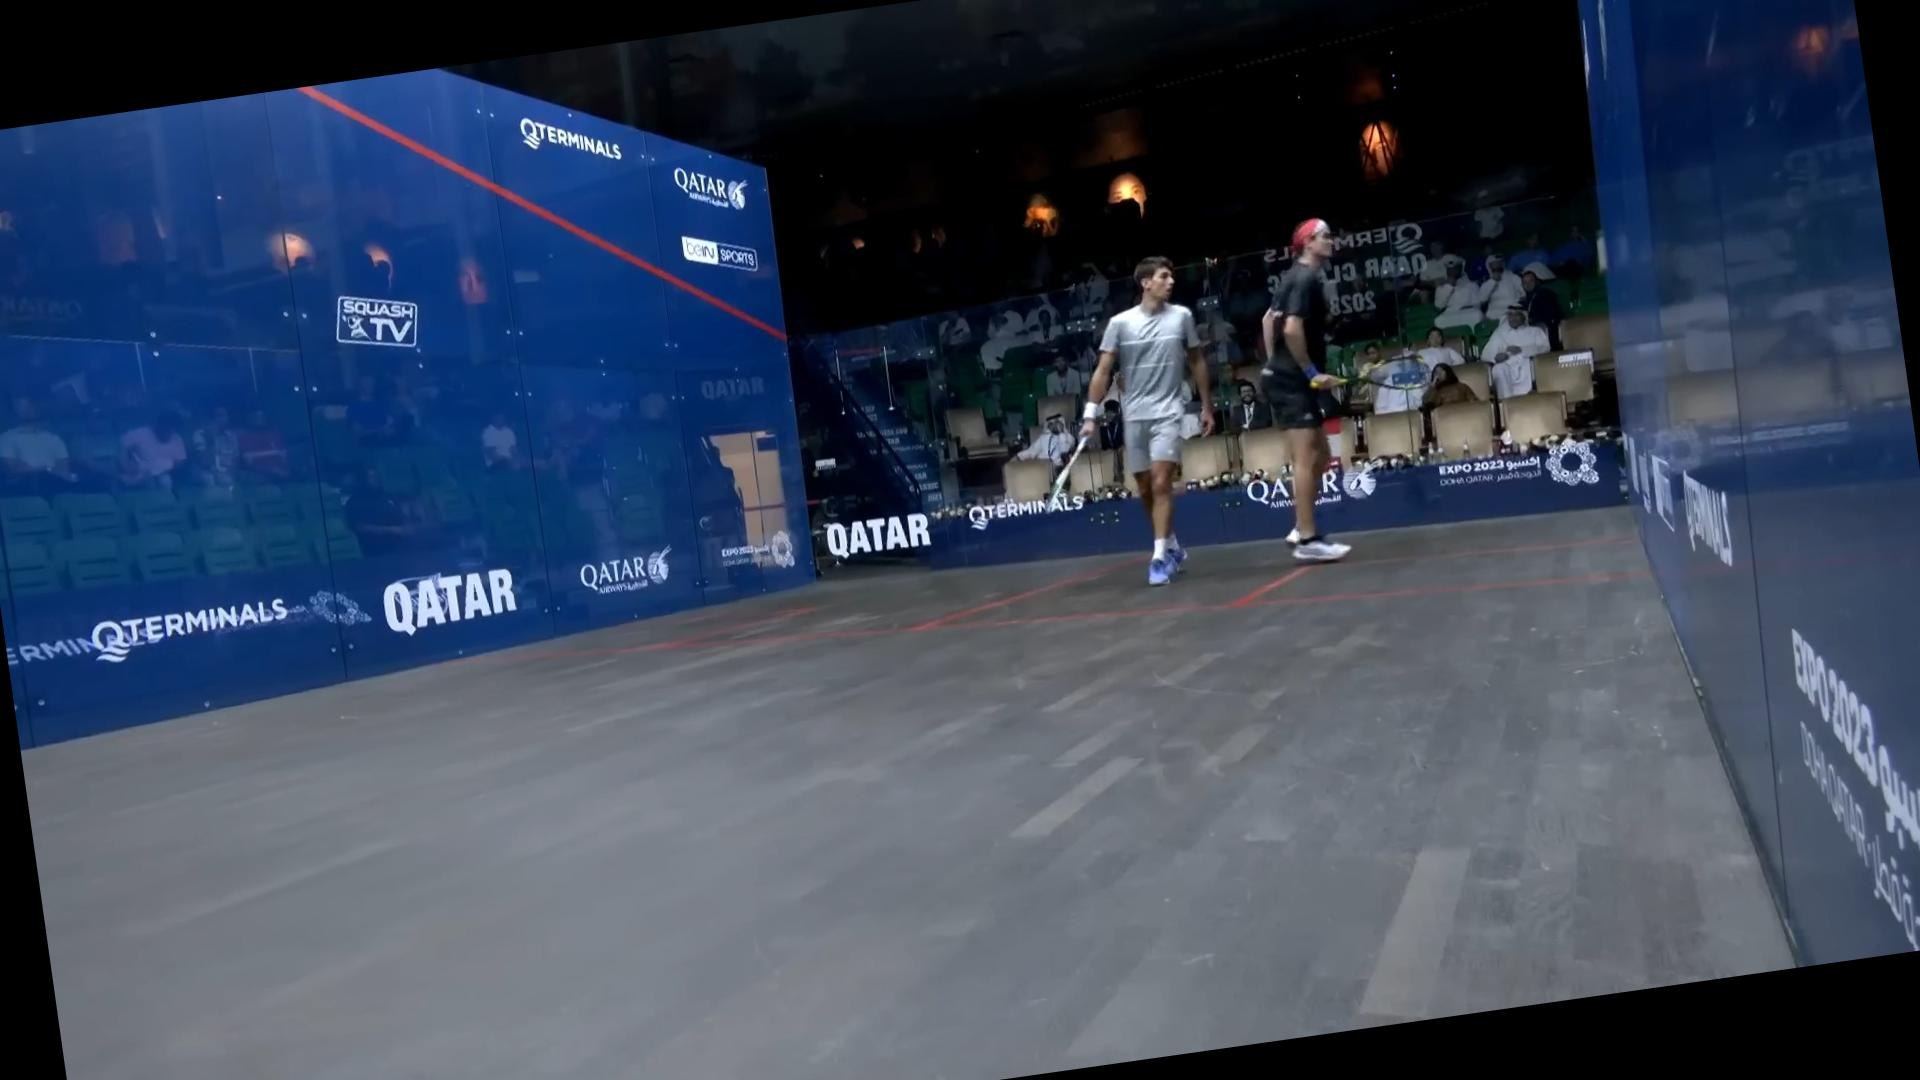Racket: (1346, 345, 1445, 407)
